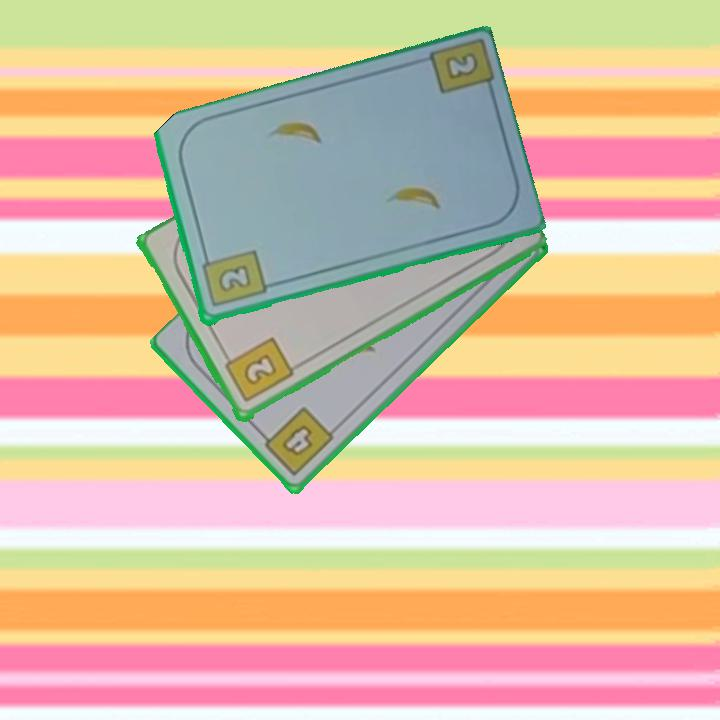2b: (219, 334, 296, 406), (198, 247, 268, 311), (445, 52, 478, 80)
4b: (255, 403, 337, 479)
